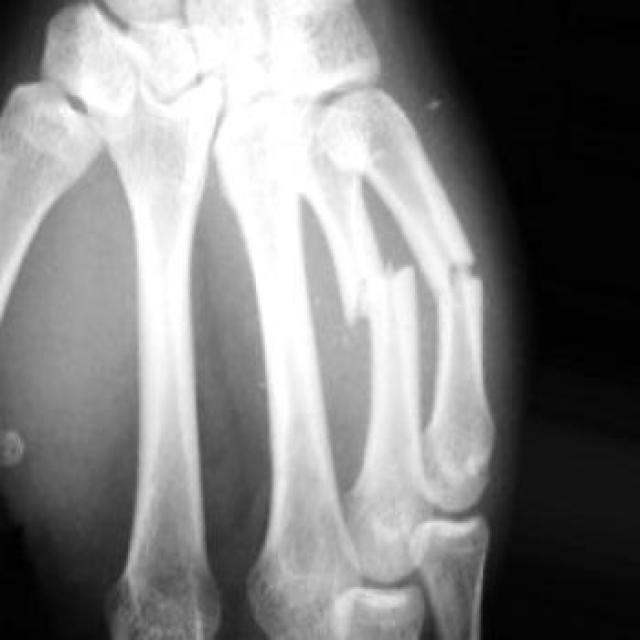Fracture: (336, 251, 414, 329), (425, 243, 489, 300)
